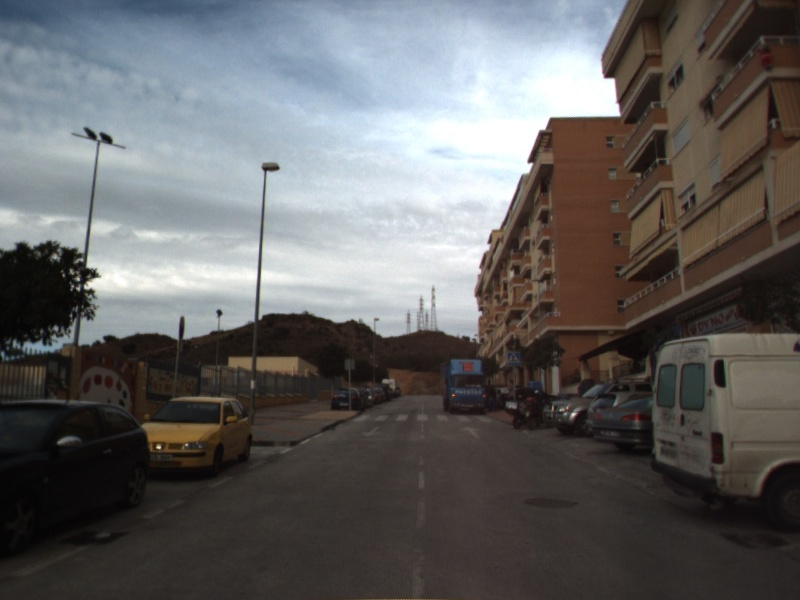STRAIGHT: (459, 424, 482, 440)
